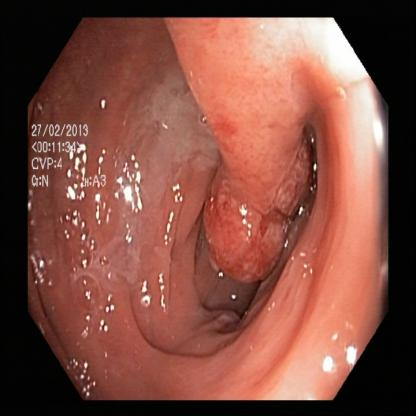Polyps: (205, 145, 307, 278)
